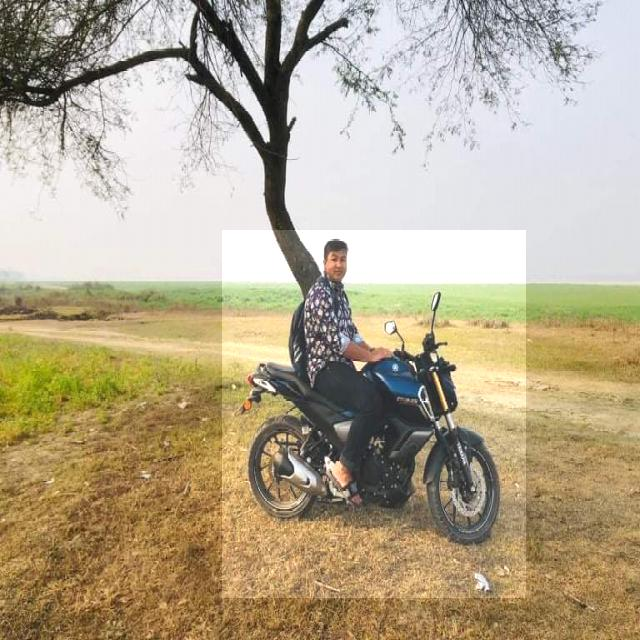Bike: (222, 230, 526, 598)
